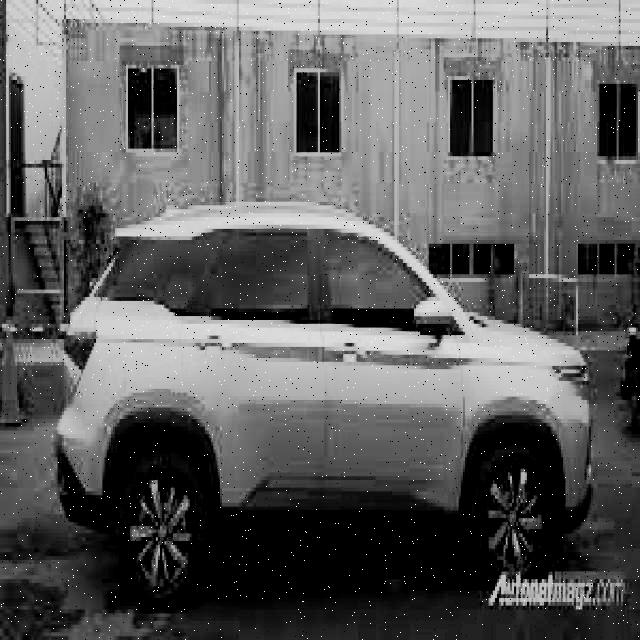Car: (54, 192, 601, 580)
